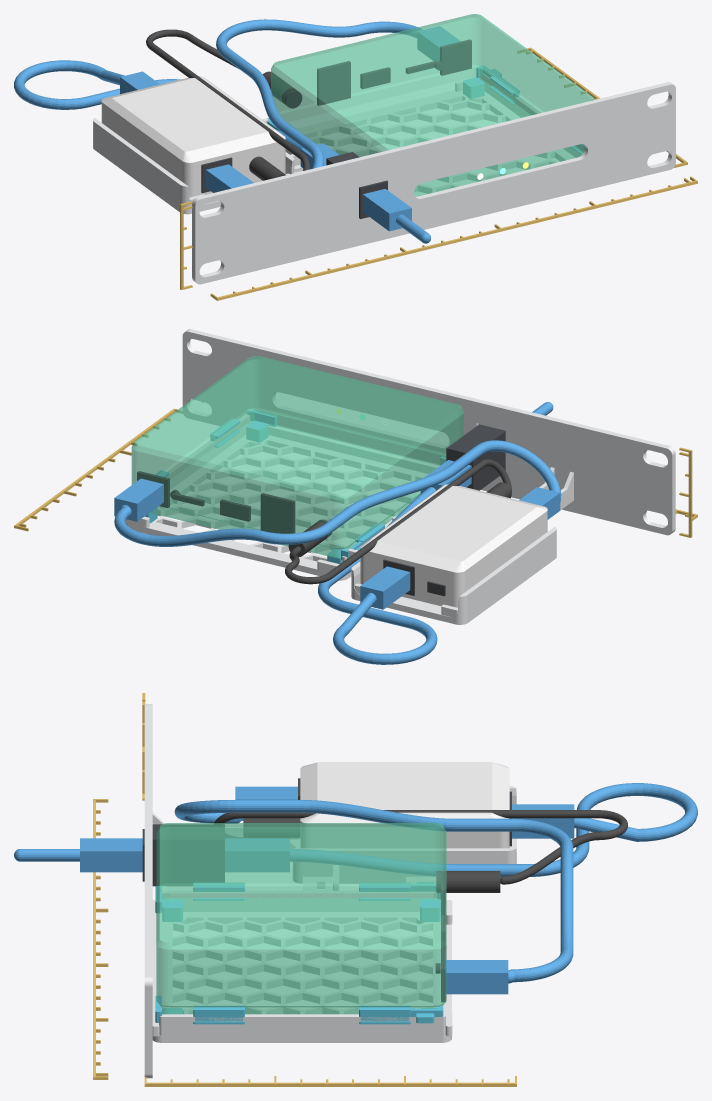
Rendered from home-assistant-green-rack-front_ethernet-no_shutter.glb.
3 renders of one model, top to bottom at view 1: azimuth 30°, elevation 25°; view 2: azimuth 150°, elevation 25°; view 3: azimuth 270°, elevation 25°, orthographic. The views are drawn at different scales.
Visible parts, largest first — view 1: White rack mount, Home Assistant Green, TP-Link TL-PD30G-M2, Green tray — standard, Internal Ethernet cable, Front keystone → TP-Link PoE jumper, 10 mm dimension rulers, Home Assistant Green connector faces, DC cable, TP-Link cradle side walls, Green retention — segmented rails + rear latch, TP-Link cradle floor (+2 smaller); view 2: Home Assistant Green, White rack mount, Green tray — standard, TP-Link TL-PD30G-M2, Internal Ethernet cable, Front keystone → TP-Link PoE jumper, TP-Link cradle side walls, DC cable, Home Assistant Green connector faces, Green retention — segmented rails + rear latch, 10 mm dimension rulers, Front keystone coupler (+2 smaller); view 3: Home Assistant Green, Green tray — standard, TP-Link TL-PD30G-M2, Front keystone → TP-Link PoE jumper, Internal Ethernet cable, DC cable, Green retention — segmented rails + rear latch, Front keystone coupler, White rack mount, 10 mm dimension rulers, TP-Link cradle side walls, Home Assistant Green connector faces.
Boxes of the visible parts, box(x1,y1,x2,y2) form: White rack mount: box(192, 82, 675, 284); Home Assistant Green: box(271, 14, 594, 196); TP-Link TL-PD30G-M2: box(101, 76, 285, 197); Green tray — standard: box(285, 73, 584, 193); Internal Ethernet cable: box(206, 19, 460, 192); Front keystone → TP-Link PoE jumper: box(14, 60, 430, 243); 10 mm dimension rulers: box(180, 47, 697, 300); Home Assistant Green connector faces: box(284, 39, 471, 108); DC cable: box(146, 29, 310, 180); TP-Link cradle side walls: box(93, 118, 294, 207); Green retention — segmented rails + rear latch: box(267, 66, 584, 154); TP-Link cradle floor: box(93, 143, 220, 214); Home Assistant Green: box(131, 356, 463, 558); White rack mount: box(182, 329, 675, 556); Green tray — standard: box(125, 414, 438, 580); TP-Link TL-PD30G-M2: box(360, 484, 547, 607); Internal Ethernet cable: box(114, 440, 561, 546); Front keystone → TP-Link PoE jumper: box(318, 402, 553, 664); TP-Link cradle side walls: box(351, 527, 556, 619); DC cable: box(285, 459, 511, 584); Home Assistant Green connector faces: box(137, 471, 331, 536); Green retention — segmented rails + rear latch: box(145, 409, 446, 563); 10 mm dimension rulers: box(14, 402, 697, 537); Front keystone coupler: box(446, 424, 505, 490); Home Assistant Green: box(156, 823, 446, 1014); Green tray — standard: box(152, 891, 452, 1042); TP-Link TL-PD30G-M2: box(300, 762, 509, 848); Front keystone → TP-Link PoE jumper: box(14, 783, 697, 876); Internal Ethernet cable: box(174, 786, 573, 994); DC cable: box(214, 810, 627, 892); Green retention — segmented rails + rear latch: box(155, 882, 443, 1024); Front keystone coupler: box(142, 824, 224, 886); White rack mount: box(144, 704, 435, 1078); 10 mm dimension rulers: box(93, 693, 516, 1086); TP-Link cradle side walls: box(293, 786, 516, 877); Home Assistant Green connector faces: box(435, 871, 445, 1002).
Size of what is drawn, in the model's own units: 268 by 43 by 264.
